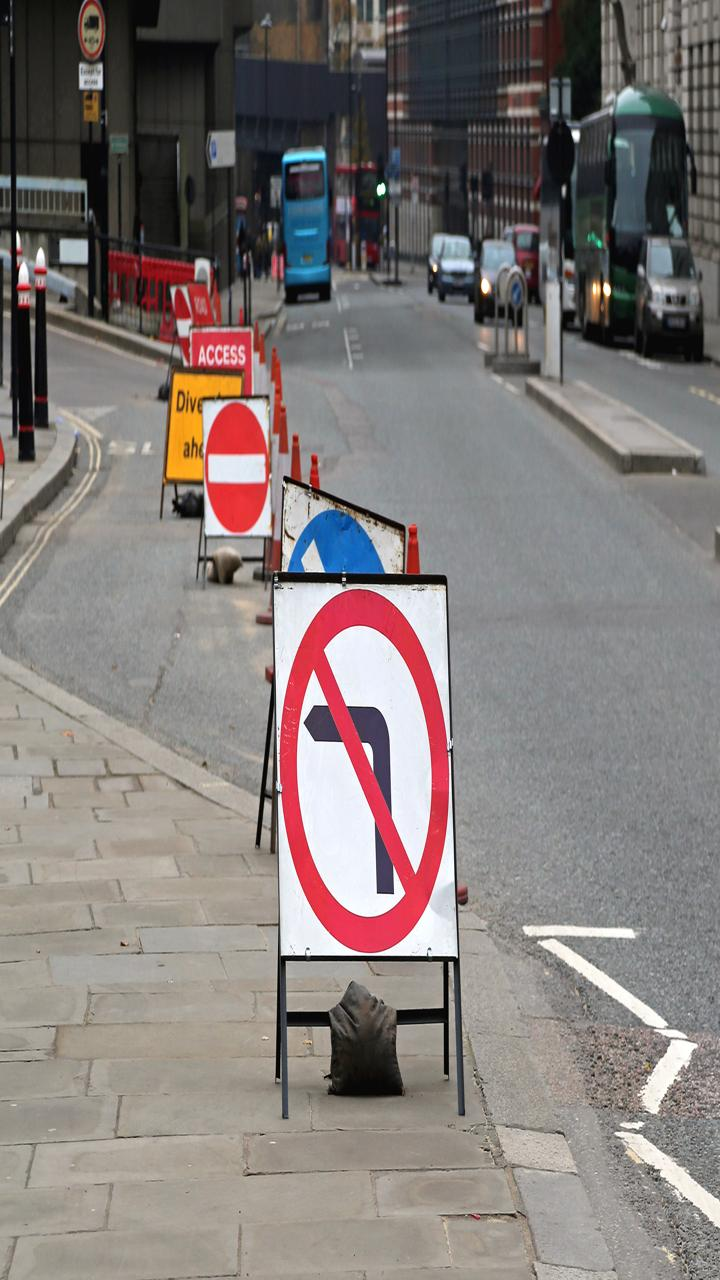Traffic sign: (252, 556, 482, 973), (188, 388, 302, 589)
vehicle: (272, 139, 352, 311), (412, 220, 487, 300)
